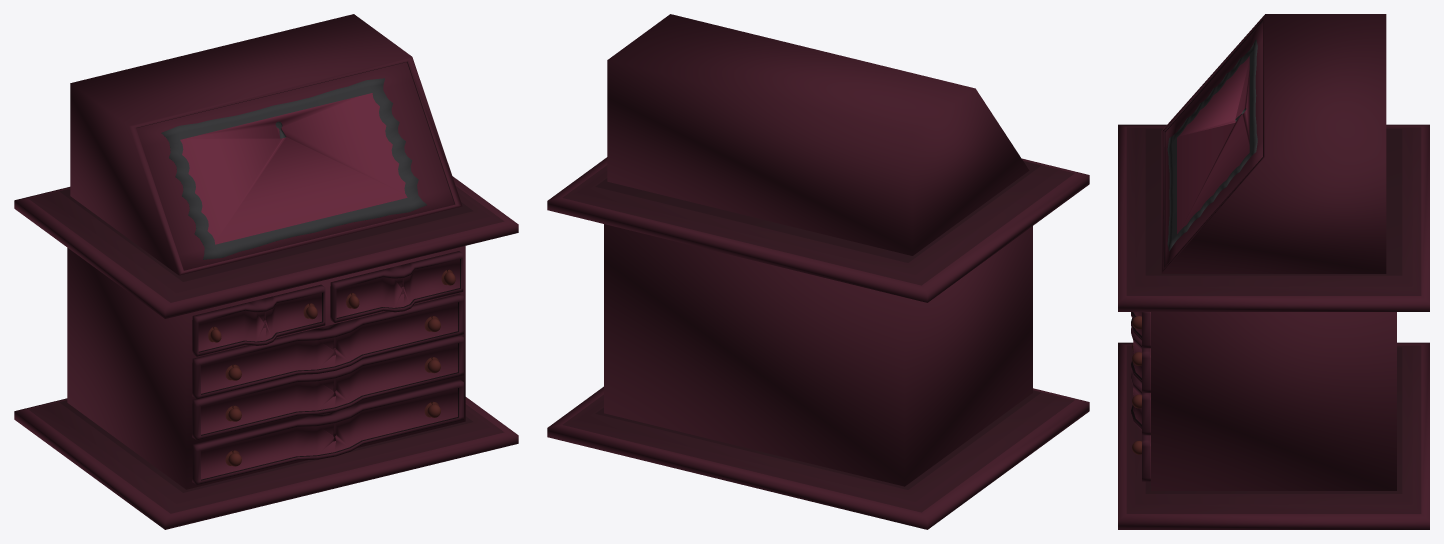
Rendered from Comoda_Animada.fbx.
3 renders of one model, left to right at view 1: azimuth 30°, elevation 25°; view 2: azimuth 150°, elevation 25°; view 3: azimuth 270°, elevation 25°, orthographic. The views are drawn at different scales.
Parts seen in each view (by area): view 1: Base, Tampa, Gaveta 1, Gaveta 3, Gaveta 2, Gaveta 4, Gaveta 5; view 2: Base; view 3: Base, Tampa, Gaveta 1, Gaveta 2, Gaveta 3, Gaveta 5.
Part boxes in pixels (left/top/right/bottom): Base: left=14, top=14, right=518, bottom=529; Tampa: left=136, top=62, right=454, bottom=270; Gaveta 1: left=192, top=379, right=463, bottom=484; Gaveta 3: left=192, top=293, right=463, bottom=399; Gaveta 2: left=192, top=335, right=463, bottom=440; Gaveta 4: left=192, top=284, right=325, bottom=356; Gaveta 5: left=330, top=251, right=463, bottom=322; Base: left=547, top=14, right=1089, bottom=529; Base: left=1118, top=14, right=1429, bottom=529; Tampa: left=1165, top=22, right=1262, bottom=266; Gaveta 1: left=1131, top=344, right=1150, bottom=481; Gaveta 2: left=1131, top=327, right=1150, bottom=435; Gaveta 3: left=1131, top=318, right=1150, bottom=392; Gaveta 5: left=1131, top=312, right=1150, bottom=348.
Size of the model in its own units: 590 by 548 by 436.
